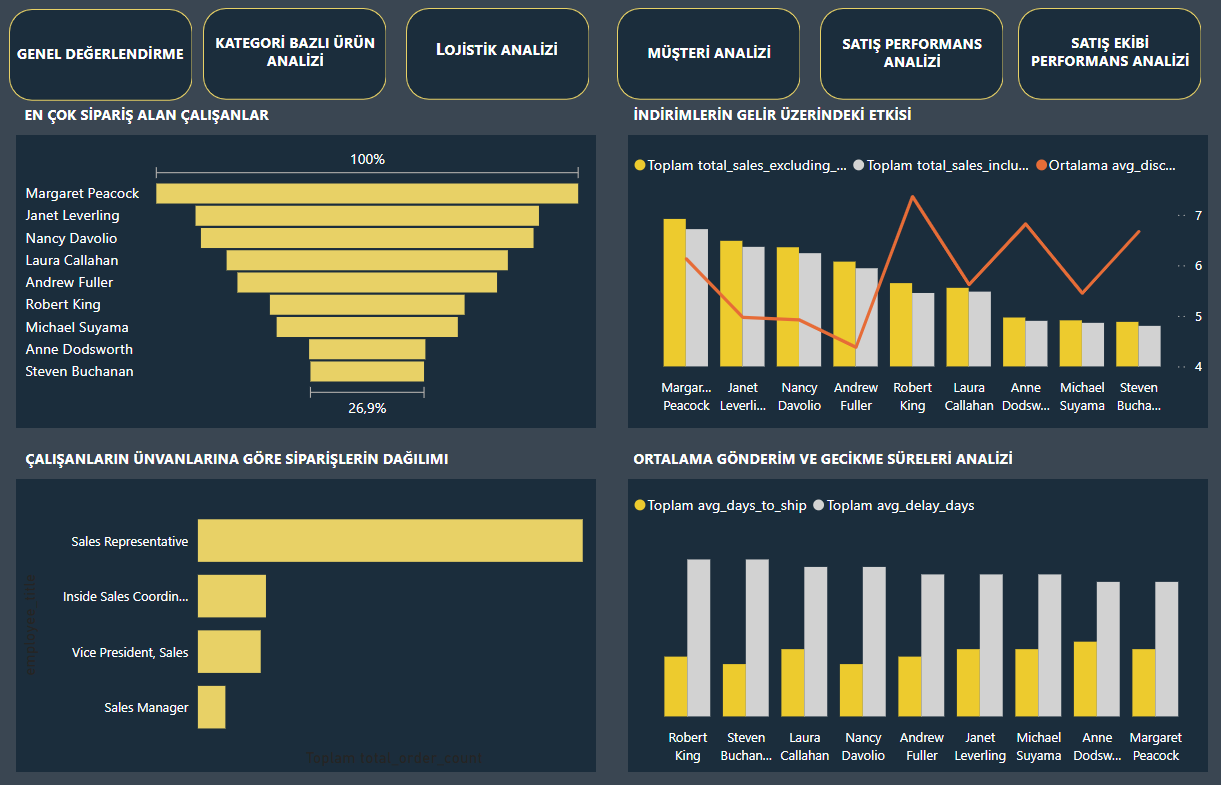

This screenshot's page, from the dashboard's own definition file:
{"tool":"powerbi","page":{"name":"satış ekibi","canvas":[1150,750],"ordinal":5},"visuals":[{"type":"shape","box":[384.6,17.1,169.5,84.7],"z":0},{"type":"shape","box":[578.8,17.1,169.5,84.7],"z":1000},{"type":"shape","box":[766.3,17.1,169.5,84.7],"z":2000},{"type":"shape","box":[949.1,17.1,169.5,84.7],"z":3000},{"type":"shape","box":[197.1,17.1,169.5,84.7],"z":4000},{"type":"textbox","box":[26.8,101.6,555.1,33.3],"z":5000},{"type":"textbox","box":[197.1,35.2,170.4,50.5],"z":6000},{"type":"shape","box":[24,134.9,535.7,270.6],"z":7000},{"type":"textbox","box":[383.7,39,169.5,32.4],"z":8000},{"type":"shape","box":[589.3,134.9,535.7,270.6],"z":9000},{"type":"textbox","box":[578.8,44.7,170.4,26.7],"z":10000},{"type":"textbox","box":[589.3,101.6,555.1,33.3],"z":11000},{"type":"textbox","box":[766.3,36.2,170.4,49.5],"z":12000},{"type":"textbox","box":[27.5,419.2,555.1,33.3],"z":13000},{"type":"textbox","box":[949.1,35.2,170.4,50.5],"z":14000},{"type":"shape","box":[24,452.6,535.7,270.6],"z":15000},{"type":"shape","box":[589.3,452.6,535.7,270.6],"z":16000},{"type":"textbox","box":[589.3,419.3,555.1,33.3],"z":17000},{"type":"funnel","fields":{"Category":["satis_1.full_name"],"Y":["Sum(satis_1.total_orders)"]},"box":[27.7,142.2,525.6,257.7],"z":18000},{"type":"lineClusteredColumnComboChart","fields":{"Category":["satis_2.employee_full_name"],"Y":["Sum(satis_2.total_sales_excluding_discount)","Sum(satis_2.total_sales_including_discount)"],"Y2":["Avg(satis_2.avg_discount_percentage)"]},"box":[589.3,142.2,535.7,257.7],"z":19000},{"type":"barChart","fields":{"Y":["Sum(satis_2.total_order_count)"],"Category":["satis_2.employee_title"]},"box":[24,456.3,535.7,266.9],"z":20000},{"type":"lineClusteredColumnComboChart","fields":{"Y":["Sum(satis_2.avg_days_to_ship)","Sum(satis_2.avg_delay_days)"],"Category":["satis_2.employee_full_name"]},"box":[589.3,456.3,535.7,266.9],"z":21000},{"type":"shape","box":[17.1,18.1,169.5,84.7],"z":22000},{"type":"textbox","box":[18,45.6,168.5,46.6],"z":23000}]}

Visuals, with their boxes in screenshot pixels (x1, y1, x2, y2), scaled from the page's 1150x750 canvas onto the 1221x785 screenshot:
shape: 408,18,588,107
shape: 615,18,794,107
shape: 814,18,994,107
shape: 1008,18,1188,107
shape: 209,18,389,107
textbox: 28,106,618,141
textbox: 209,37,390,90
shape: 25,141,594,424
textbox: 407,41,587,75
shape: 626,141,1194,424
textbox: 615,47,795,75
textbox: 626,106,1215,141
textbox: 814,38,995,90
textbox: 29,439,619,474
textbox: 1008,37,1189,90
shape: 25,474,594,757
shape: 626,474,1194,757
textbox: 626,439,1215,474
funnel - satis_1.full_name x Sum(satis_1.total_orders): 29,149,587,419
lineClusteredColumnComboChart - satis_2.employee_full_name x Sum(satis_2.total_sales_excluding_discount): 626,149,1194,419
barChart - Sum(satis_2.total_order_count) x satis_2.employee_title: 25,478,594,757
lineClusteredColumnComboChart - Sum(satis_2.avg_days_to_ship) x Sum(satis_2.avg_delay_days): 626,478,1194,757
shape: 18,19,198,108
textbox: 19,48,198,97
